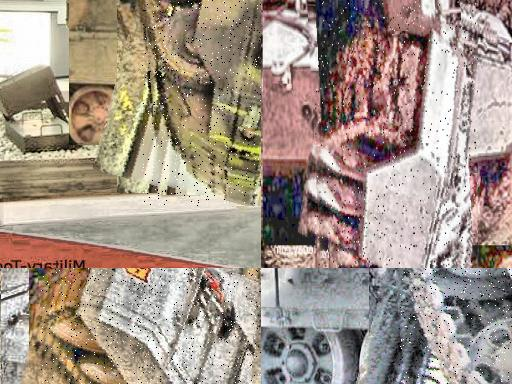tanks: (316, 3, 479, 269), (42, 269, 262, 384), (144, 1, 262, 207), (406, 269, 512, 384)
